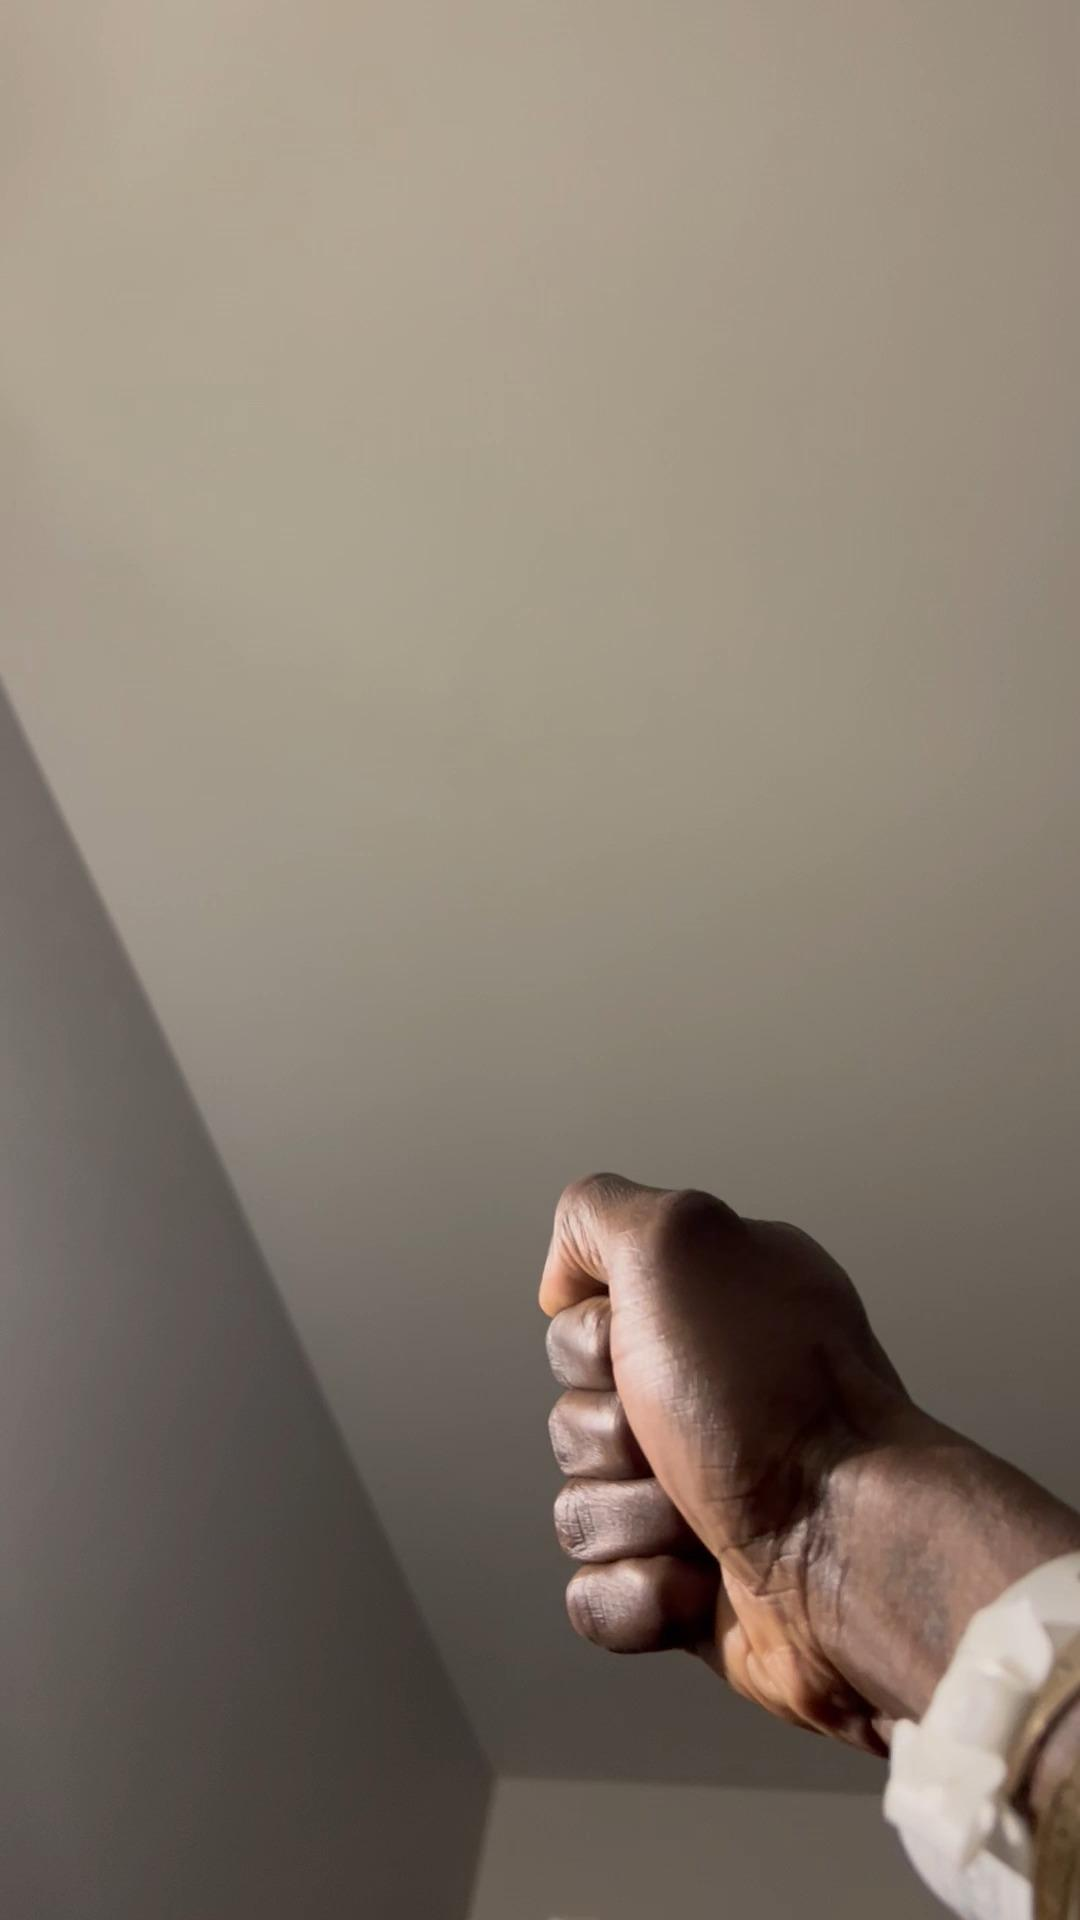Rock: (541, 1163, 923, 1709)
